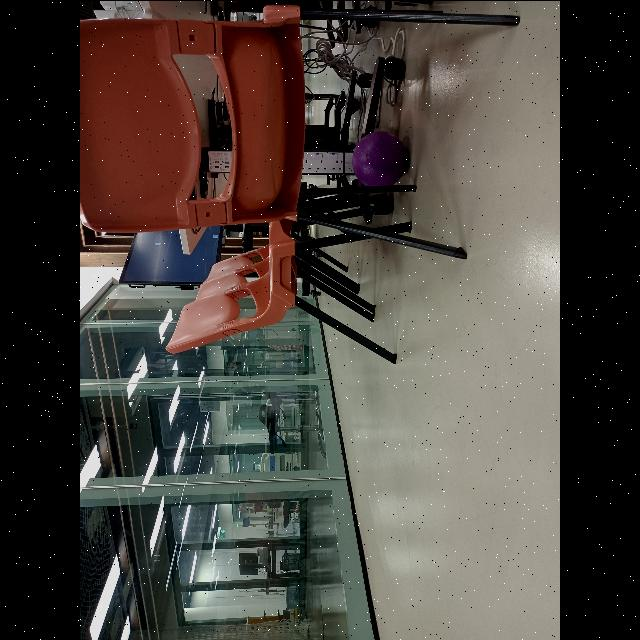P: (352, 130, 408, 188)
